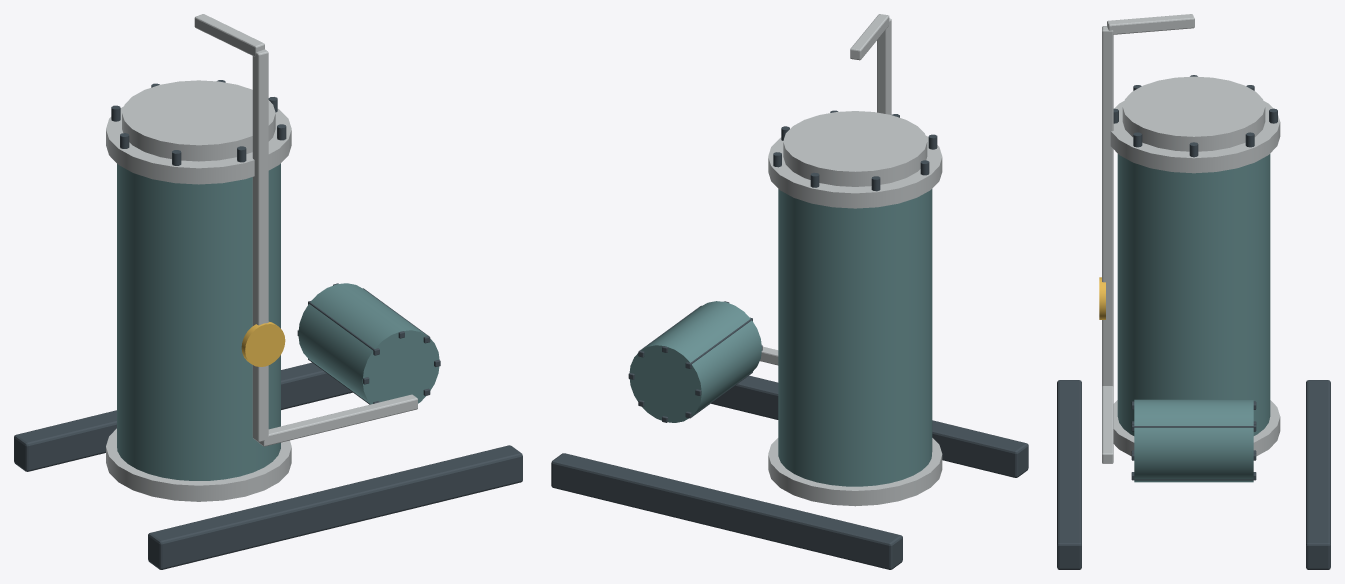
The model's file is pit_cad_service_tank_v1.glb.
The picture shows the model from 3 angles, left to right: view 1: azimuth 30°, elevation 25°; view 2: azimuth 150°, elevation 25°; view 3: azimuth 270°, elevation 25°; orthographic projection. The views are drawn at different scales.
Visible parts, largest first — view 1: pit_cad_service_tank_v1_painted_equipment_teal, pit_cad_service_tank_v1_machined_fasteners, pit_cad_service_tank_v1_recessed_steel, pit_cad_service_tank_v1_safety_ochre; view 2: pit_cad_service_tank_v1_painted_equipment_teal, pit_cad_service_tank_v1_recessed_steel, pit_cad_service_tank_v1_machined_fasteners; view 3: pit_cad_service_tank_v1_painted_equipment_teal, pit_cad_service_tank_v1_machined_fasteners, pit_cad_service_tank_v1_recessed_steel.
Part boxes in pixels (left/top/right/bottom): pit_cad_service_tank_v1_painted_equipment_teal: left=117, top=163, right=439, bottom=480; pit_cad_service_tank_v1_machined_fasteners: left=106, top=14, right=417, bottom=501; pit_cad_service_tank_v1_recessed_steel: left=14, top=80, right=522, bottom=569; pit_cad_service_tank_v1_safety_ochre: left=241, top=322, right=285, bottom=366; pit_cad_service_tank_v1_painted_equipment_teal: left=629, top=189, right=932, bottom=486; pit_cad_service_tank_v1_recessed_steel: left=551, top=110, right=1028, bottom=569; pit_cad_service_tank_v1_machined_fasteners: left=760, top=14, right=942, bottom=506; pit_cad_service_tank_v1_painted_equipment_teal: left=1117, top=154, right=1270, bottom=482; pit_cad_service_tank_v1_machined_fasteners: left=1102, top=14, right=1280, bottom=463; pit_cad_service_tank_v1_recessed_steel: left=1057, top=75, right=1330, bottom=569.
Size of the model in its own units: 2.35 by 2.94 by 1.65.
